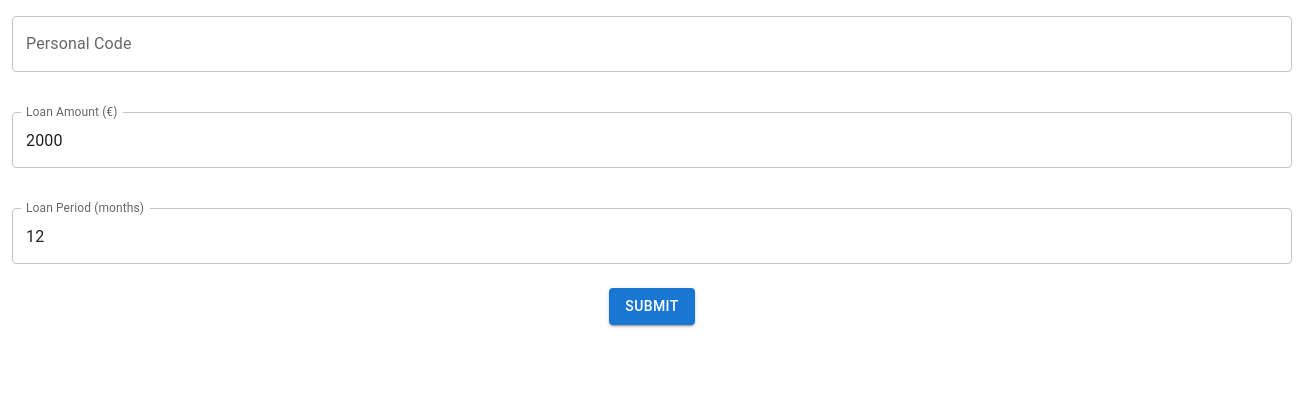
Test: LoanForm Component › displays validation errors when fields are empty
Clear the number field labelled "Loan Amount (€)". click: (652, 140)
box: [12,112,1292,168]
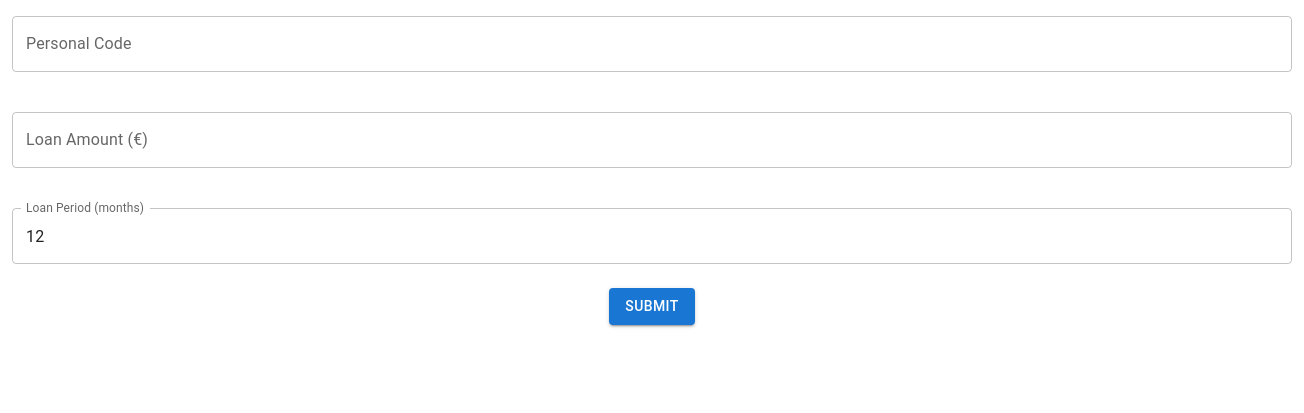
Clear the number field labelled "Loan Period (months)". click: (652, 236)
box: [12,208,1292,264]
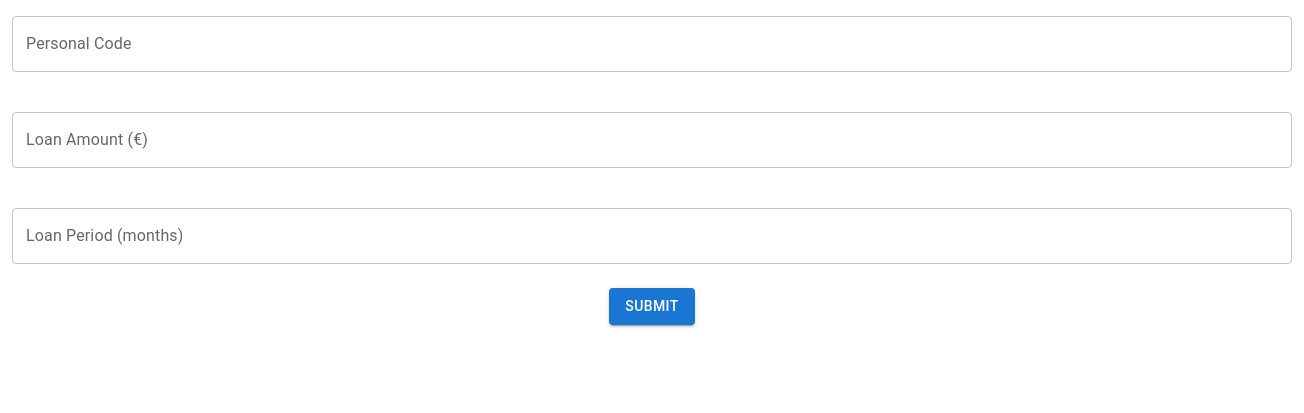
Click the button "Submit". click: (652, 306)
box: [609,288,695,324]
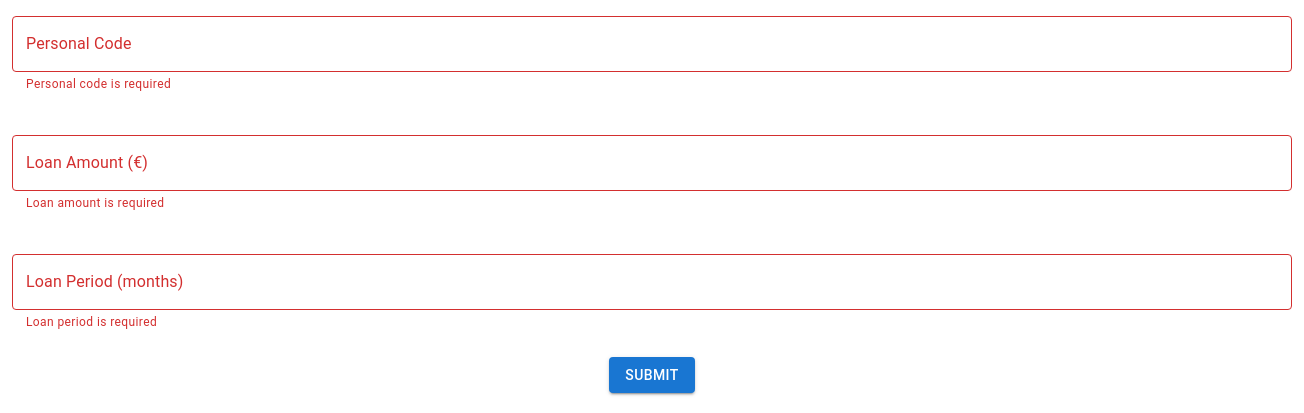
Result: the text "Personal code is required" is shown at [26,77,171,91]
Result: the text "Loan amount is required" is shown at [26,196,164,210]
Result: the text "Loan period is required" is shown at [26,315,157,329]
